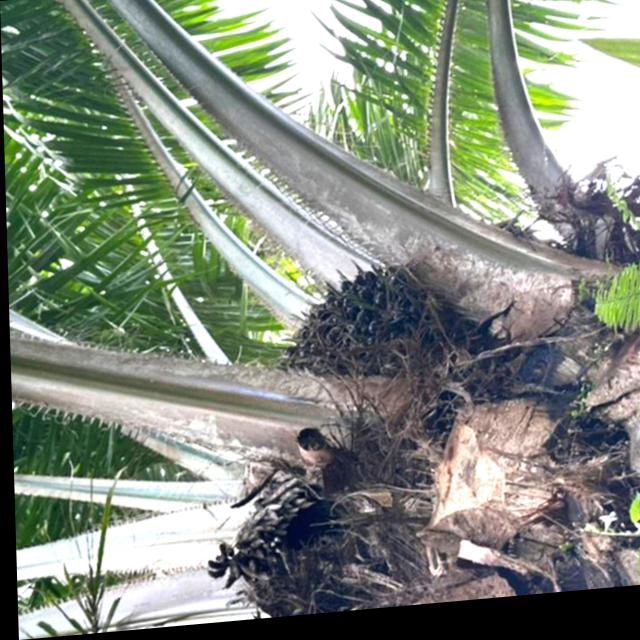unripe: (257, 250, 504, 423)
